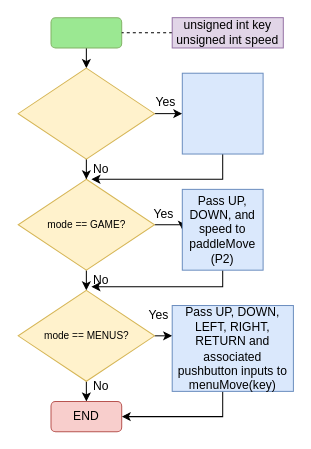
Image size: 311x449. Some labels were removed from this diagram. Each missing label, with the centre of its shape:
BEGIN: the point at 86,32
mode == GAME || mode == GAME_AI?: the point at 86,113
Pass W, S, and speed to paddleMove (P1). ESC -> setInputMode: the point at 222,113
